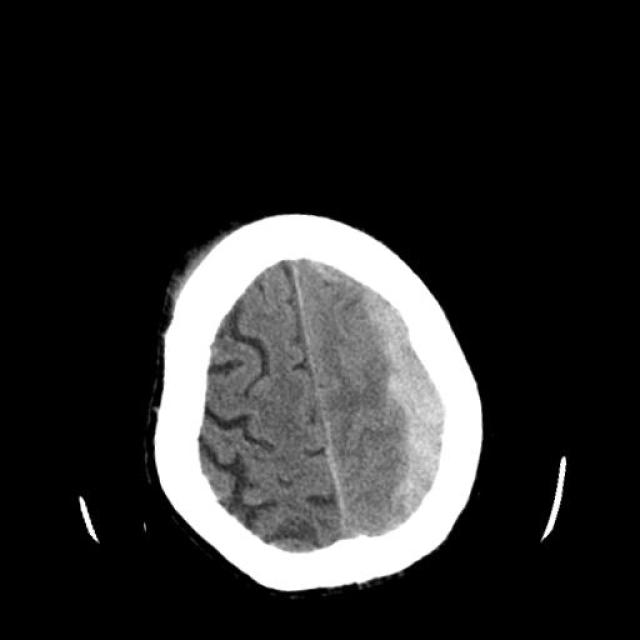Subdural: (352, 257, 497, 558)
